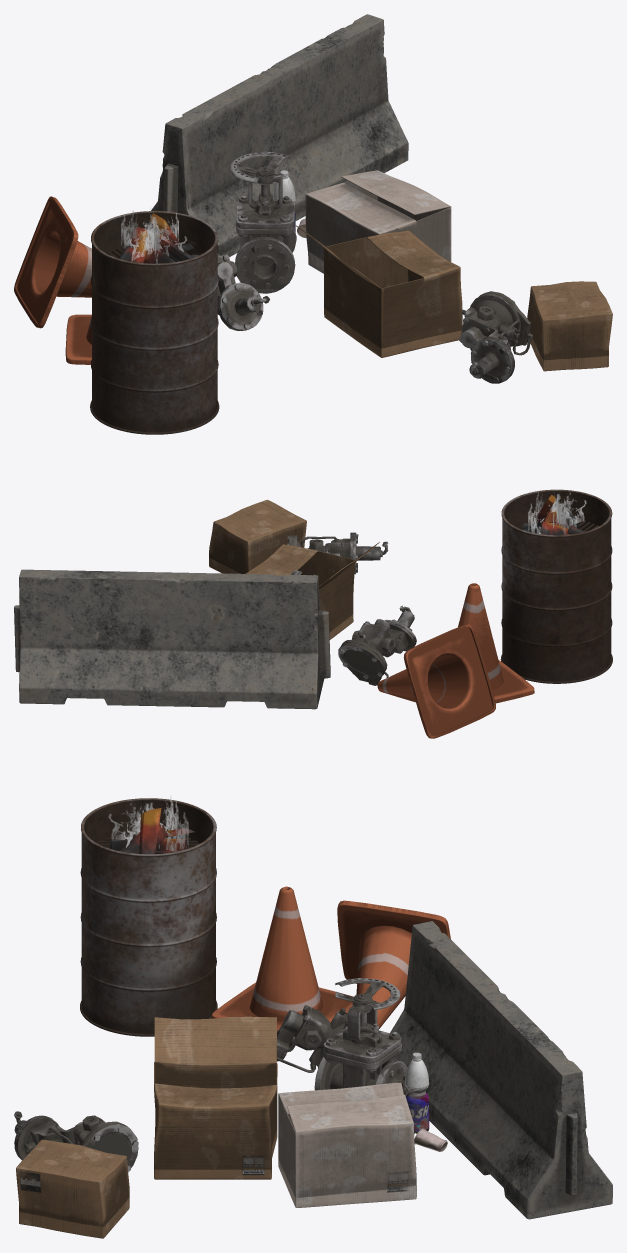
Rendered from trash (1).glb.
The picture shows the model from 3 angles, top to bottom: view 1: azimuth 30°, elevation 25°; view 2: azimuth 150°, elevation 25°; view 3: azimuth 270°, elevation 25°; orthographic projection. The views are drawn at different scales.
Parts seen in each view (by area): view 1: UBH Garbage 05.Shape, UBH Garbage 01.Shape, UBH Burning Barrel.Shape, UBH Cone.Shape, UBH Machine Part 03.Shape; view 2: UBH Garbage 05.Shape, UBH Burning Barrel.Shape, UBH Cone.Shape, UBH Garbage 01.Shape, UBH Machine Part 03.Shape; view 3: UBH Garbage 01.Shape, UBH Garbage 05.Shape, UBH Burning Barrel.Shape, UBH Cone.Shape, UBH Machine Part 03.Shape.
Part boxes in pixels (<box>): UBH Garbage 05.Shape: <box>151,14,408,293</box>; UBH Garbage 01.Shape: <box>296,170,612,383</box>; UBH Burning Barrel.Shape: <box>90,207,219,434</box>; UBH Cone.Shape: <box>14,196,91,364</box>; UBH Machine Part 03.Shape: <box>217,253,269,330</box>; UBH Garbage 05.Shape: <box>14,569,330,709</box>; UBH Burning Barrel.Shape: <box>500,489,612,683</box>; UBH Cone.Shape: <box>377,583,534,738</box>; UBH Garbage 01.Shape: <box>209,499,388,639</box>; UBH Machine Part 03.Shape: <box>338,605,416,685</box>; UBH Garbage 01.Shape: <box>14,1016,416,1238</box>; UBH Garbage 05.Shape: <box>314,921,612,1219</box>; UBH Burning Barrel.Shape: <box>80,795,217,1036</box>; UBH Cone.Shape: <box>211,886,450,1030</box>; UBH Machine Part 03.Shape: <box>276,1005,347,1072</box>.
Size of the model in its own units: 3.01 by 1.32 by 3.
9 materials, 9 textured.
